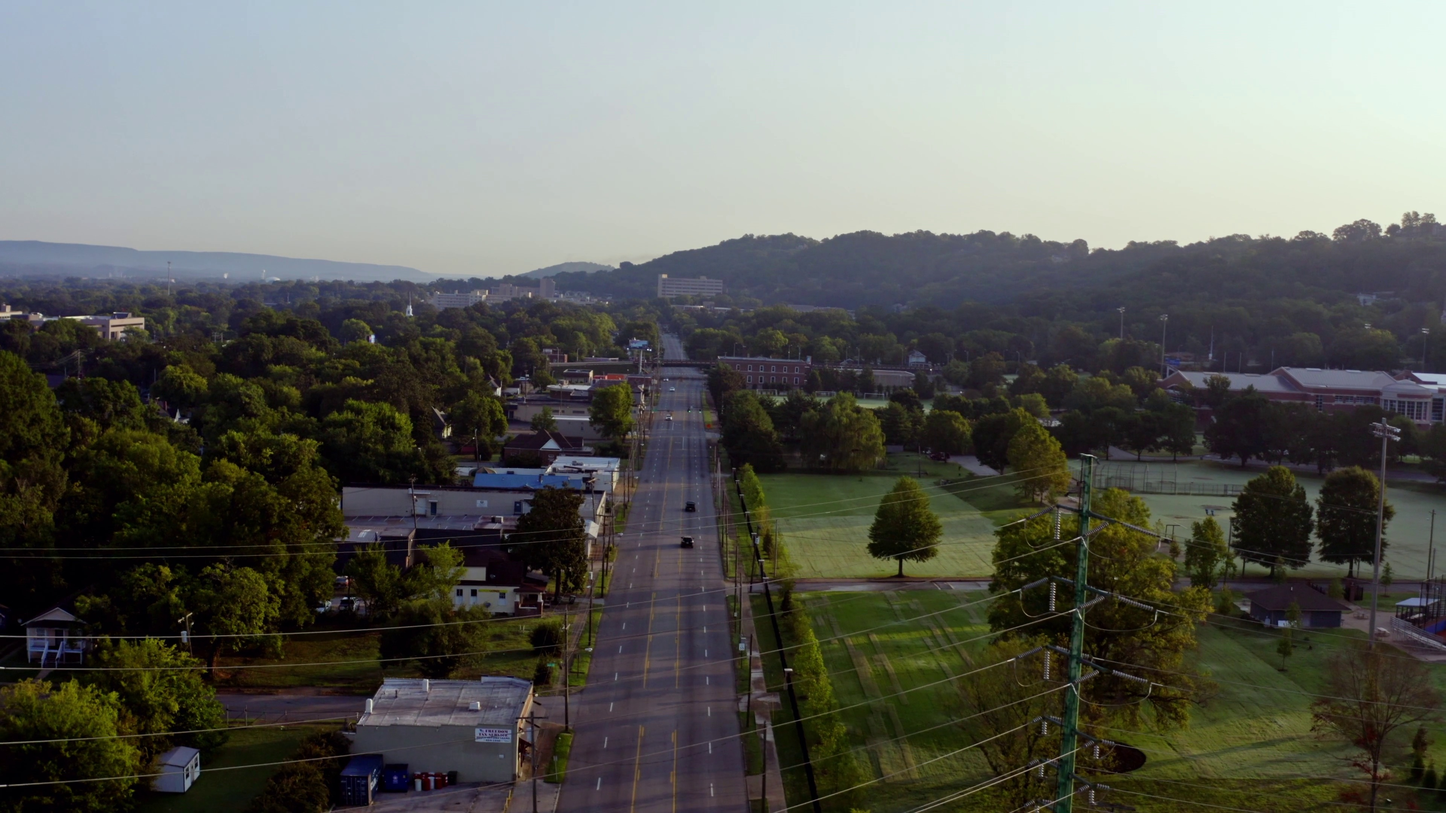Vehicle: (338, 597, 360, 612), (316, 600, 332, 614), (334, 576, 349, 590), (681, 536, 694, 548), (685, 501, 696, 512), (665, 415, 672, 421), (669, 387, 675, 392), (663, 378, 668, 382)
